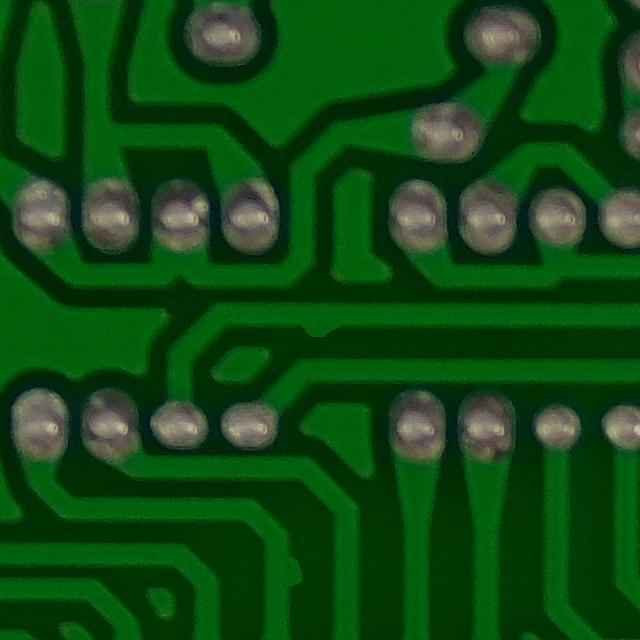spur: (280, 295, 361, 345)
